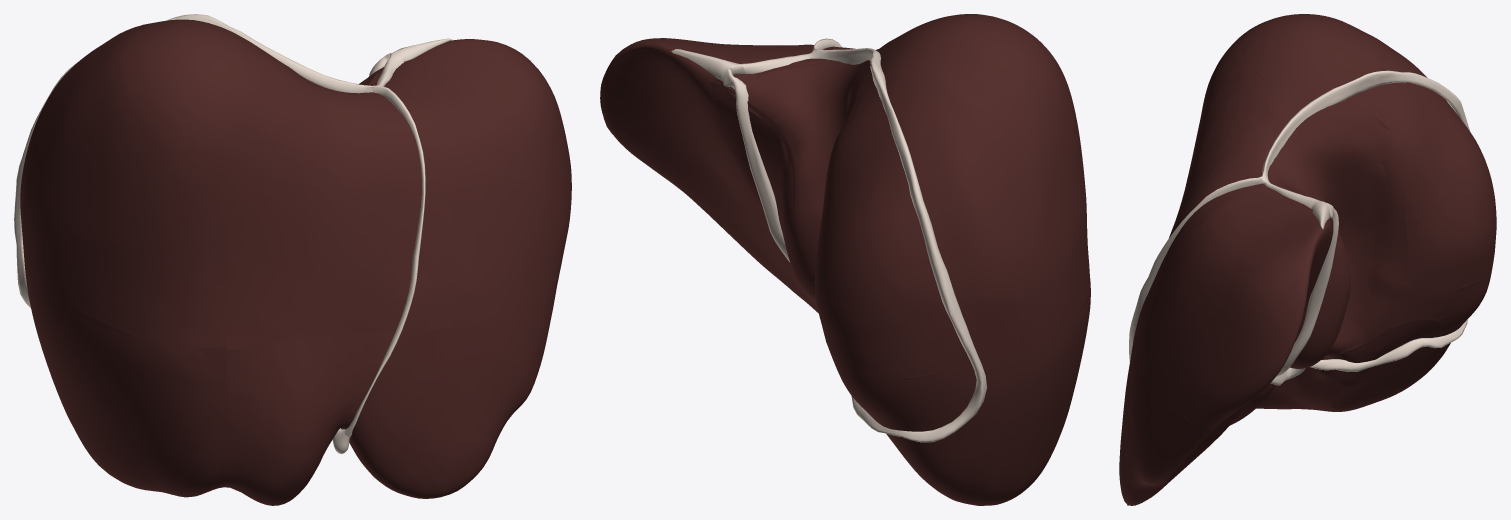
The model's file is liver.glb.
3 renders of one model, left to right at view 1: azimuth 30°, elevation 25°; view 2: azimuth 150°, elevation 25°; view 3: azimuth 270°, elevation 25°, orthographic. The views are drawn at different scales.
Parts seen in each view (by area): view 1: VH_F_gastric_impression_of_liver, VH_F_coronary_ligament_of_liver; view 2: VH_F_gastric_impression_of_liver, VH_F_coronary_ligament_of_liver; view 3: VH_F_gastric_impression_of_liver, VH_F_coronary_ligament_of_liver.
Boxes of the visible parts, x1,y1,x2,y2 form: VH_F_gastric_impression_of_liver: [20, 19, 571, 505]; VH_F_coronary_ligament_of_liver: [14, 14, 452, 454]; VH_F_gastric_impression_of_liver: [600, 14, 1090, 505]; VH_F_coronary_ligament_of_liver: [671, 38, 987, 442]; VH_F_gastric_impression_of_liver: [1119, 14, 1496, 505]; VH_F_coronary_ligament_of_liver: [1129, 70, 1469, 385].
Size of the model in its own units: 0.1523 by 0.1337 by 0.112.
